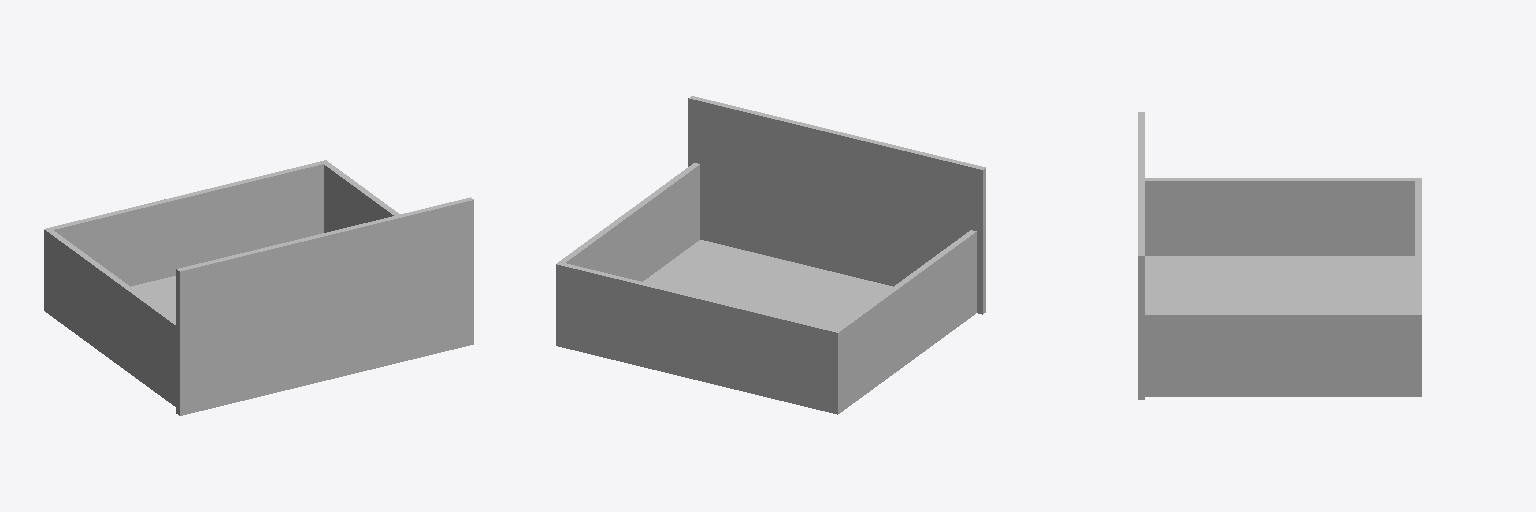
File: KitchenOPEN_Export-27.obj
The picture shows the model from 3 angles: view 1: azimuth 30°, elevation 25°; view 2: azimuth 150°, elevation 25°; view 3: azimuth 270°, elevation 25°; orthographic projection.
Visible parts, largest first — view 1: KitchenOPEN_Export-27; view 2: KitchenOPEN_Export-27; view 3: KitchenOPEN_Export-27.
Part boxes in pixels (x1,y1,x2,y2): KitchenOPEN_Export-27: (44, 160, 473, 415); KitchenOPEN_Export-27: (556, 96, 985, 414); KitchenOPEN_Export-27: (1138, 112, 1421, 399).
Size of the model in its own units: 49 by 23 by 41.